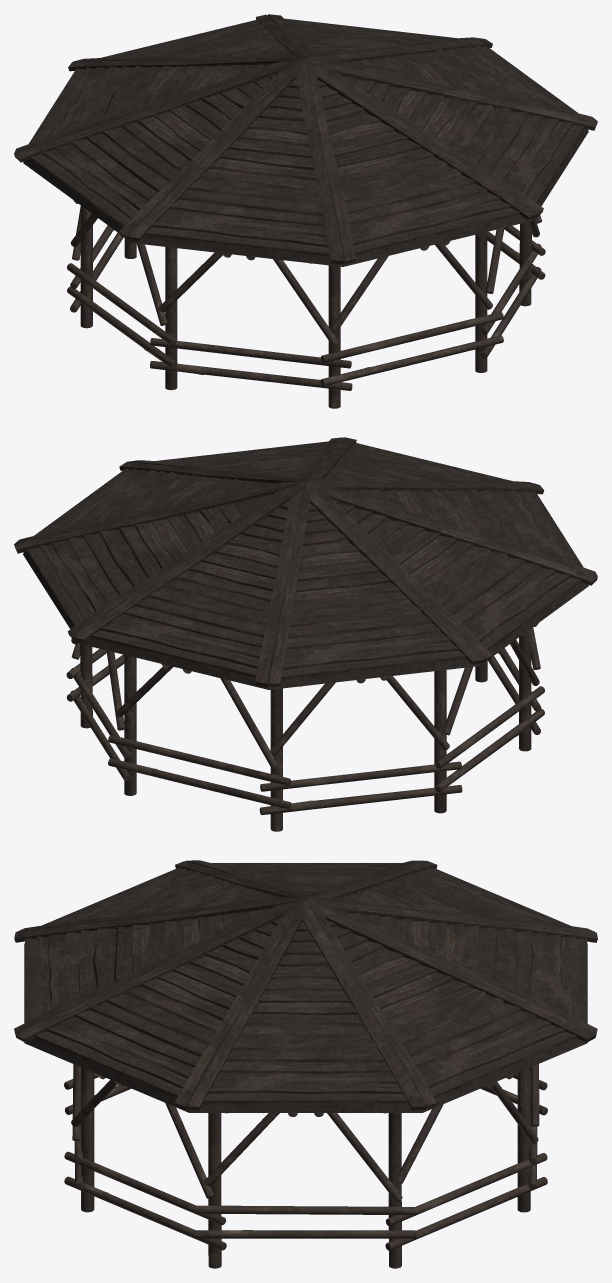
Rendered from SM_Gristmill.fbx.
3 views of the same model, one above another, from view 1: azimuth 30°, elevation 25°; view 2: azimuth 150°, elevation 25°; view 3: azimuth 270°, elevation 25° (orthographic). The views are drawn at different scales.
Visible parts, largest first — view 1: Gristmill1; view 2: Gristmill1; view 3: Gristmill1.
Boxes of the visible parts, x1,y1,x2,y2 form: Gristmill1: (14, 14, 597, 408); Gristmill1: (14, 437, 597, 831); Gristmill1: (14, 860, 597, 1268).
Size of the model in its own units: 1198 by 622 by 1198.
1 material, 1 textured.
